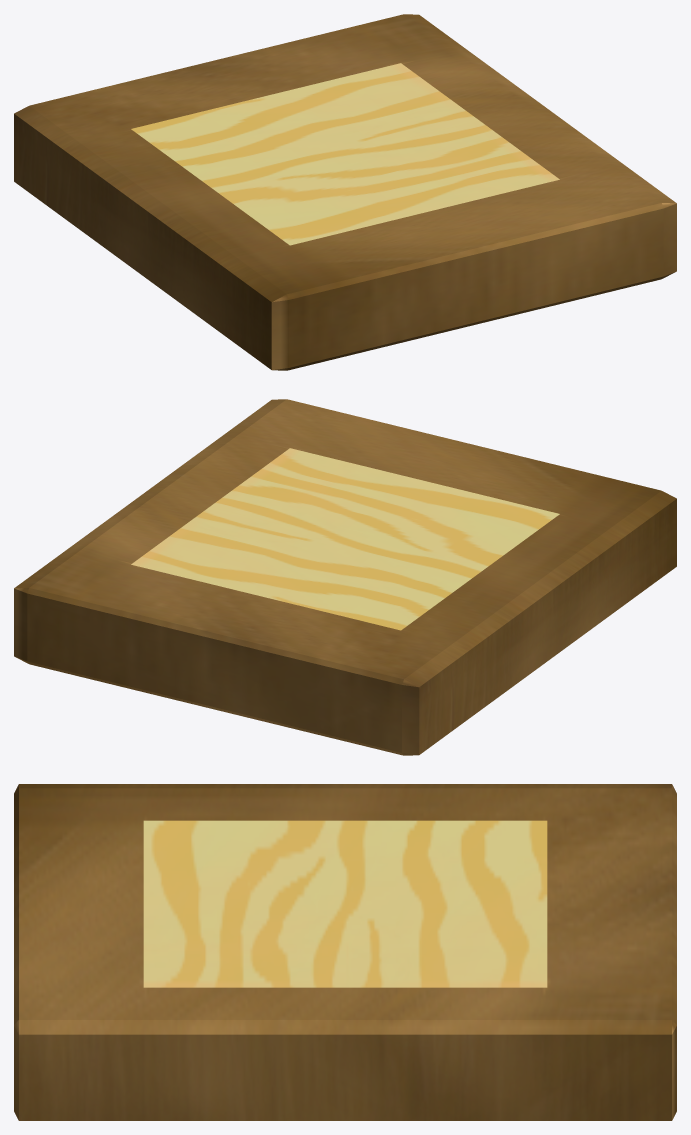
Rendered from sandbox.obj.
3 views of the same model, one above another, from view 1: azimuth 30°, elevation 25°; view 2: azimuth 150°, elevation 25°; view 3: azimuth 270°, elevation 25° (orthographic). The views are drawn at different scales.
Parts seen in each view (by area): view 1: ground.001_Cube.002; view 2: ground.001_Cube.002; view 3: ground.001_Cube.002.
Boxes of the visible parts, x1,y1,x2,y2 form: ground.001_Cube.002: (14, 14, 676, 370); ground.001_Cube.002: (14, 399, 676, 755); ground.001_Cube.002: (14, 784, 676, 1120).
Bounding box in the file's own units: 5.56 × 1 × 6.22.
